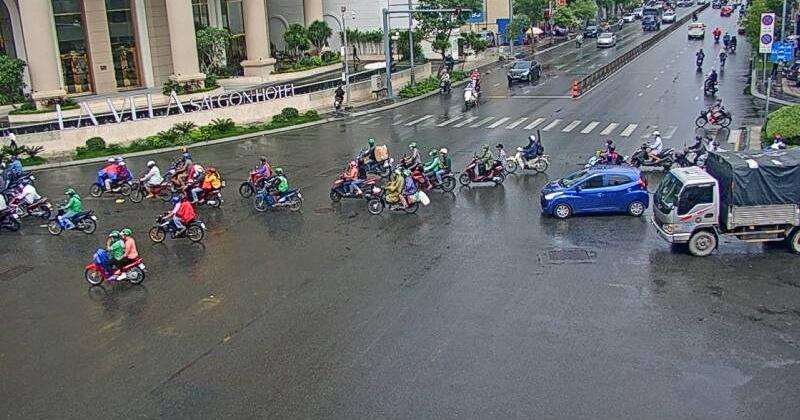xe hoi: (538, 162, 648, 219)
xe may: (85, 227, 143, 287), (149, 194, 204, 245), (367, 167, 419, 215), (48, 186, 97, 235), (171, 167, 226, 209), (254, 167, 303, 214), (405, 148, 456, 191), (458, 143, 505, 186), (128, 159, 172, 203), (329, 160, 374, 203), (502, 132, 547, 174), (89, 155, 132, 197), (629, 130, 674, 167)
xe tai: (652, 149, 800, 256)
